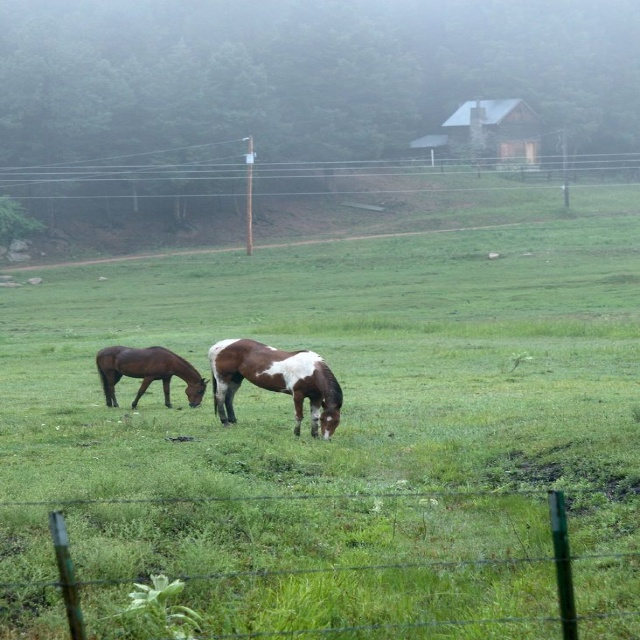Horse: (208, 339, 341, 440), (93, 345, 211, 410)
